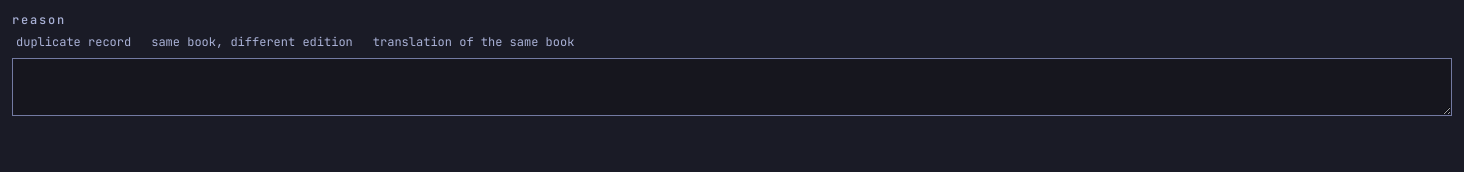
Test case: ReasonField › adds a chip to what was typed
Type "two OL ids for one book" into the text box labelled "Reason" at (732, 87), box [12, 58, 1452, 116]
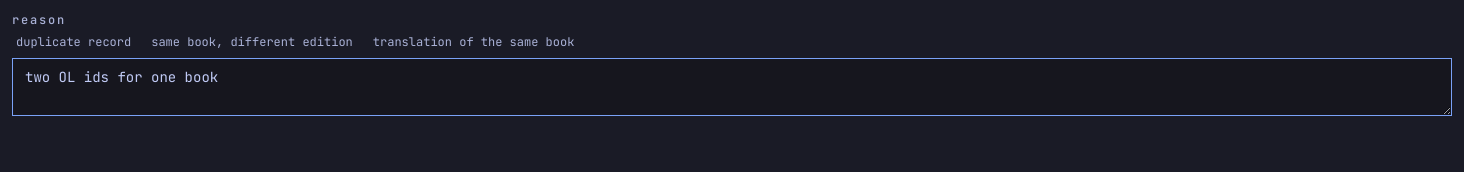
Click the button "duplicate record" at (74, 42), box [12, 34, 135, 50]
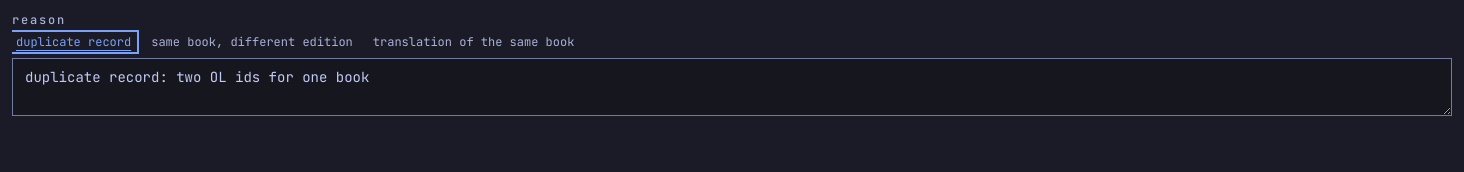
Check: the text box labelled "Reason" holds "duplicate record: two OL ids for one book", box [12, 58, 1452, 116]
